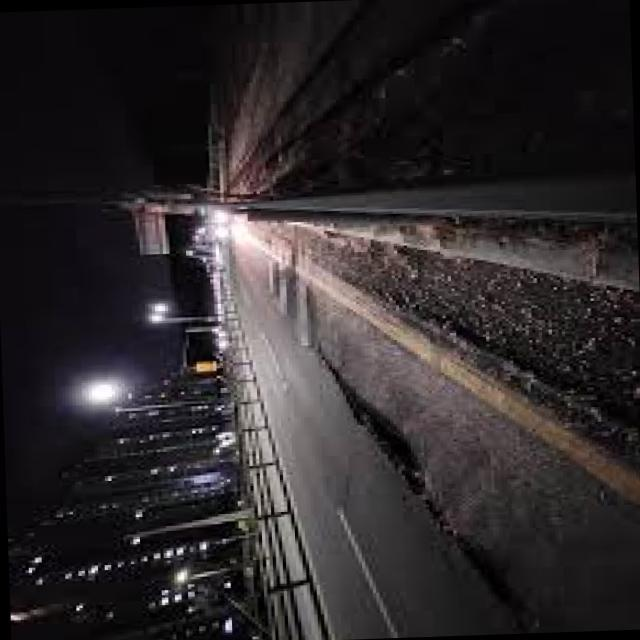pothole: (298, 348, 420, 472), (418, 445, 543, 545)
